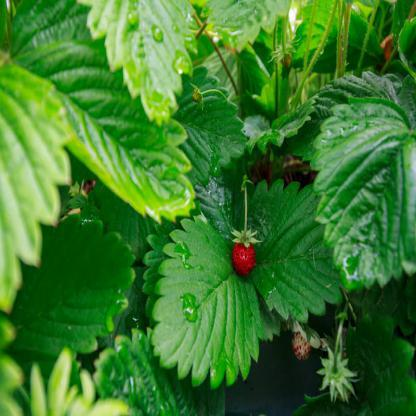strawberry: (224, 218, 272, 282)
